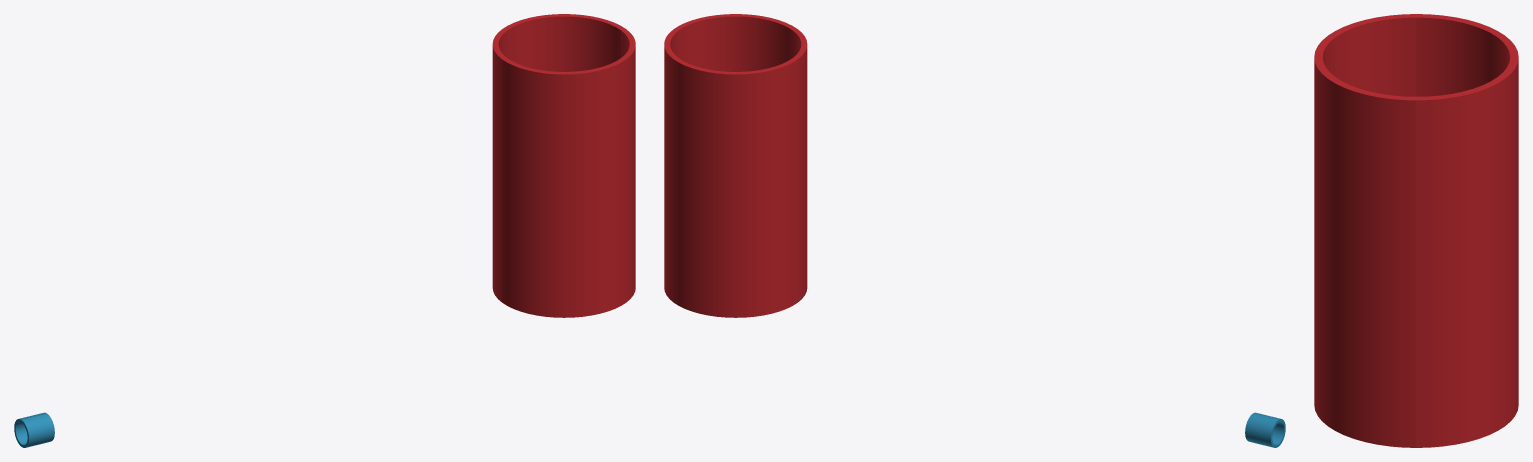
Rendered from dissolved_air_flotation_unit_pressure.glb.
3 renders of one model, left to right at view 1: azimuth 30°, elevation 25°; view 2: azimuth 150°, elevation 25°; view 3: azimuth 270°, elevation 25°, orthographic. The views are drawn at different scales.
Visible parts, largest first — view 1: pz__front, pz__back; view 2: pz__back, pz__front; view 3: pz__back, pz__front.
Part boxes in pixels (left/top/right/bottom): pz__front: left=21, top=29, right=635, bottom=447; pz__back: left=14, top=14, right=625, bottom=446; pz__back: left=664, top=29, right=1278, bottom=447; pz__front: left=674, top=14, right=1285, bottom=446; pz__back: left=1416, top=14, right=1518, bottom=447; pz__front: left=1314, top=14, right=1416, bottom=447.
Bounding box in the file's own units: 2.34 × 1 × 0.48.
